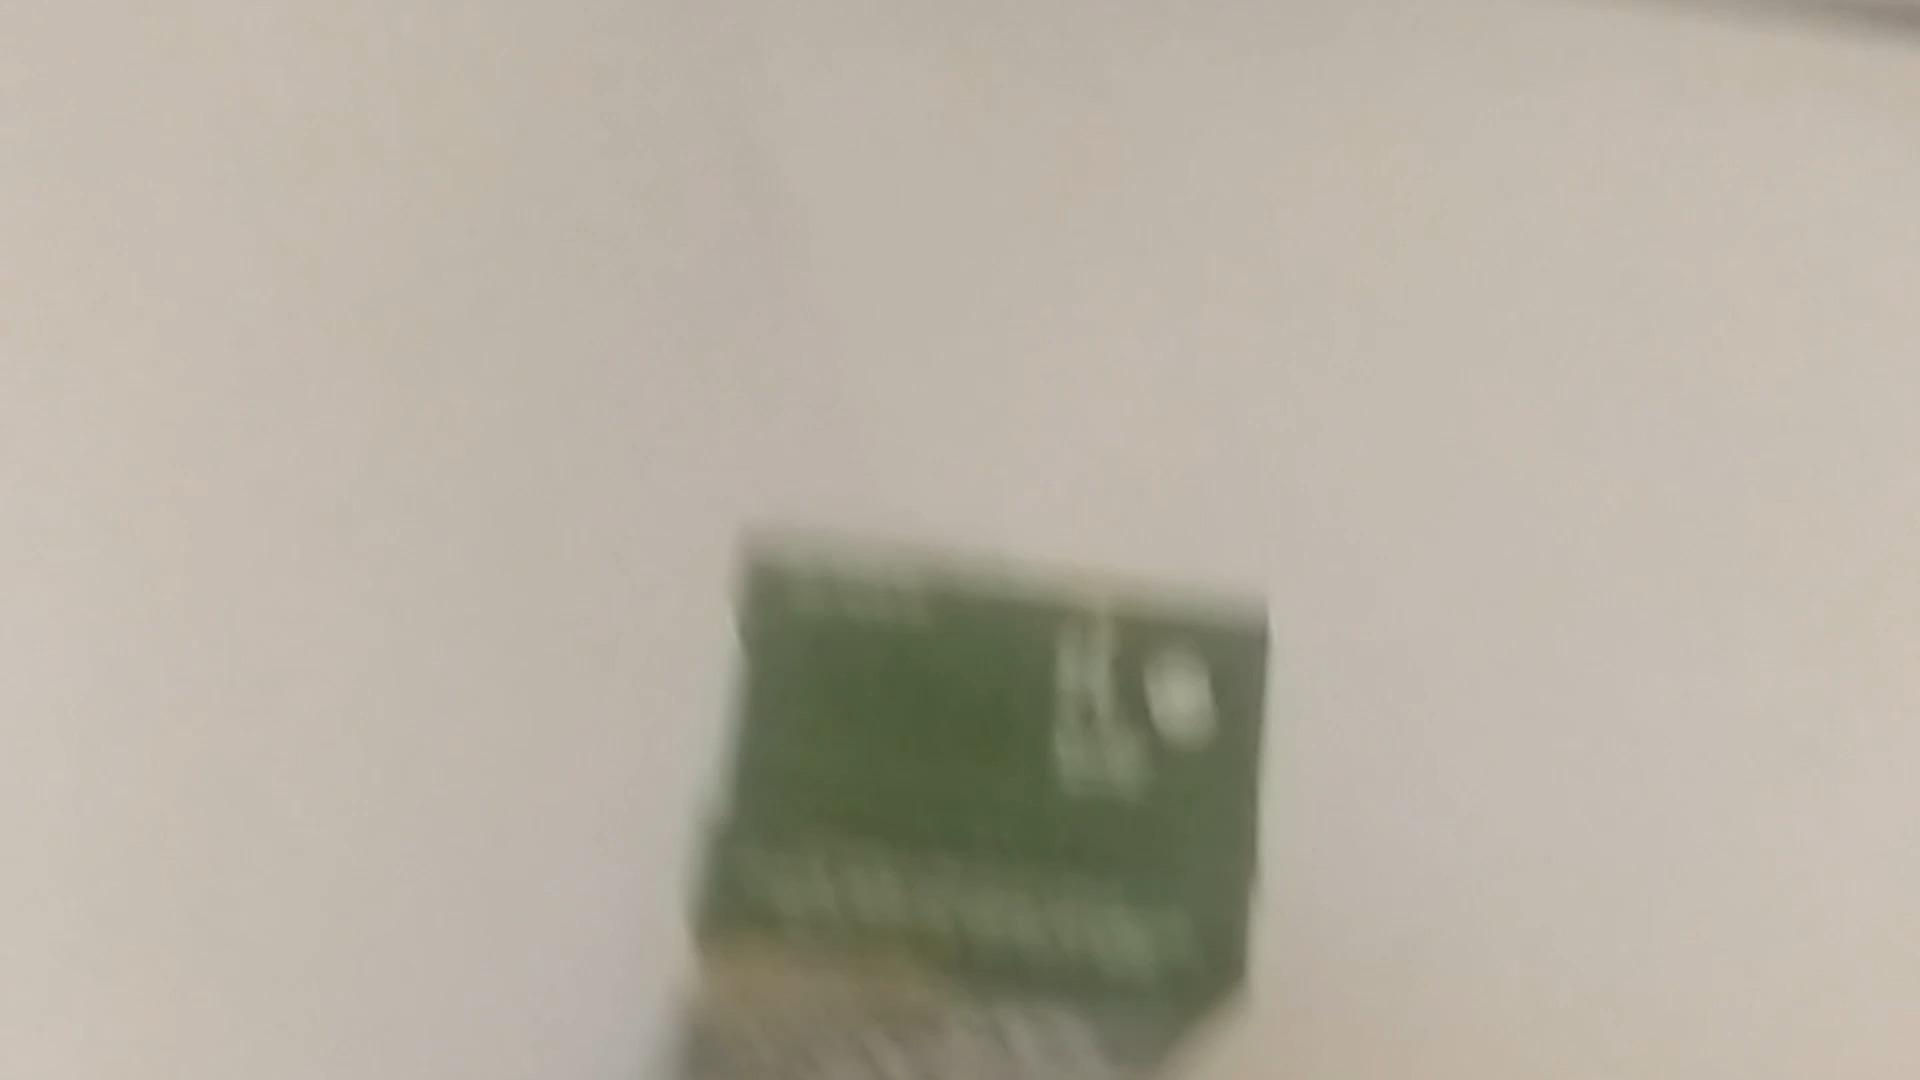coco: (678, 522, 1280, 1080)
